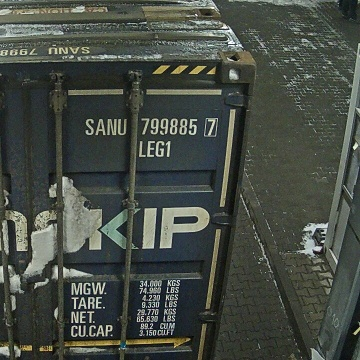serial_id: (85, 118, 216, 135)
